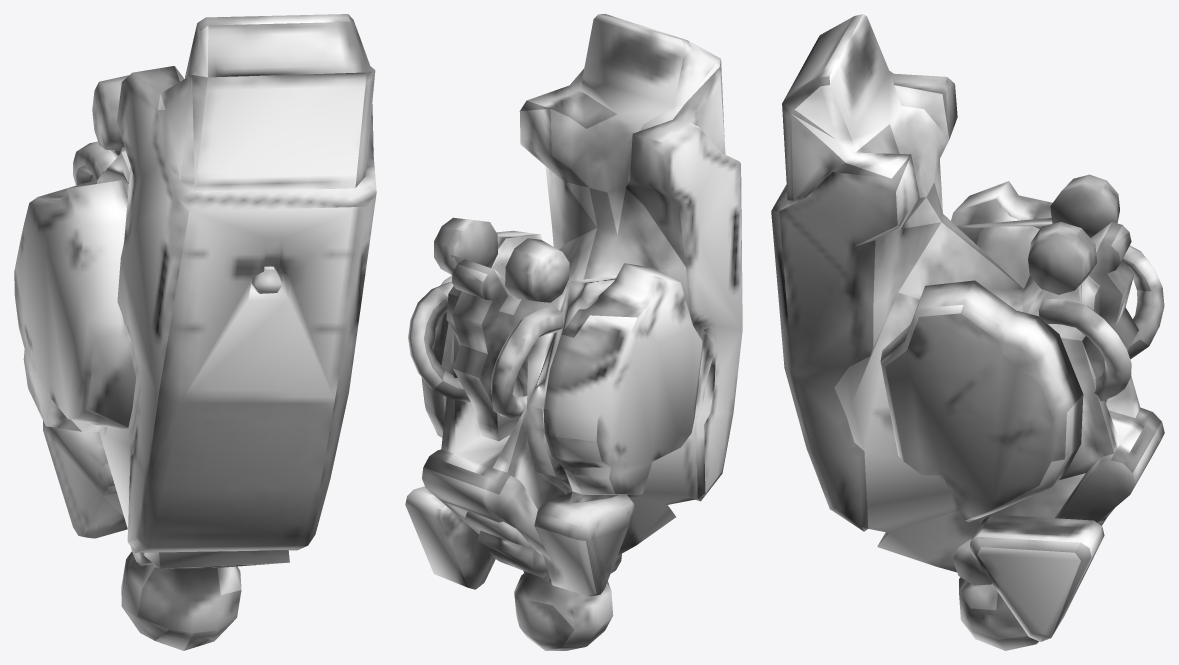
Rendered from r_shin.glb.
The picture shows the model from 3 angles, left to right: view 1: azimuth 30°, elevation 25°; view 2: azimuth 150°, elevation 25°; view 3: azimuth 270°, elevation 25°; orthographic projection. The views are drawn at different scales.
Parts seen in each view (by area): view 1: r_shin; view 2: r_shin; view 3: r_shin.
Boxes of the visible parts, x1,y1,x2,y2 form: r_shin: [14, 14, 376, 650]; r_shin: [405, 14, 742, 650]; r_shin: [771, 14, 1164, 650].
Bounding box in the file's own units: 0.5998 × 1.41 × 0.8307.
Materials: 3 (3 with a texture image).
